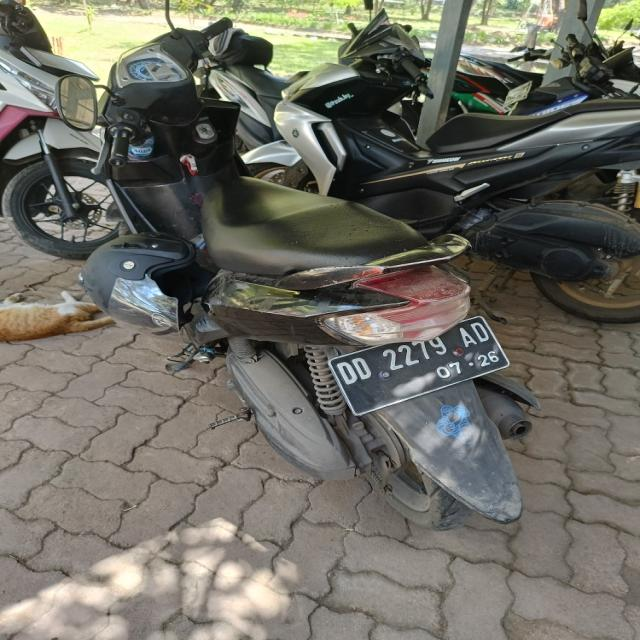plates: (335, 322, 495, 395)
